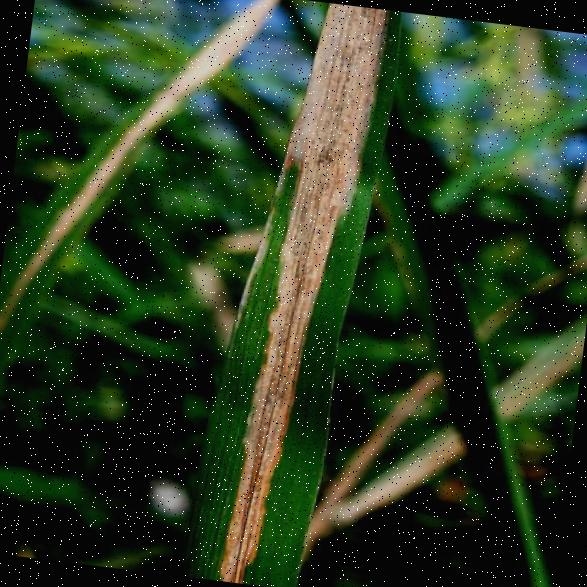Bacteria_Leaf_Blight: (218, 0, 352, 585)
